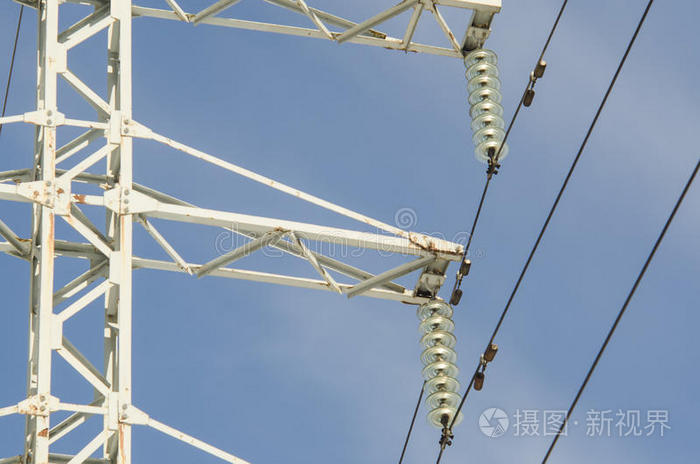insulator: (419, 303, 464, 427), (465, 48, 508, 162)
